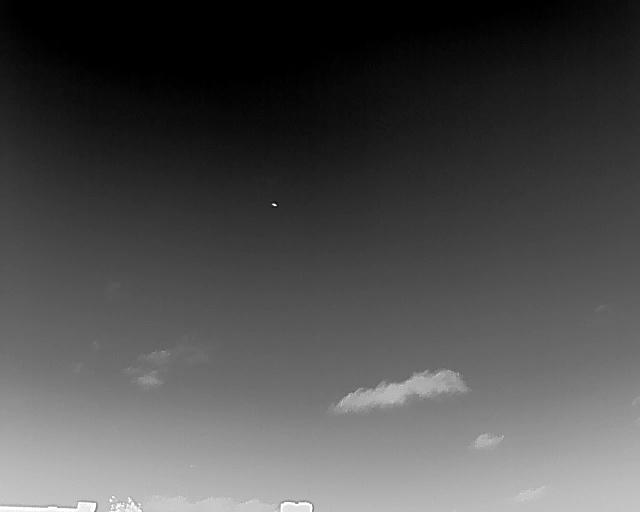fpv-drone: (270, 202, 278, 207)
